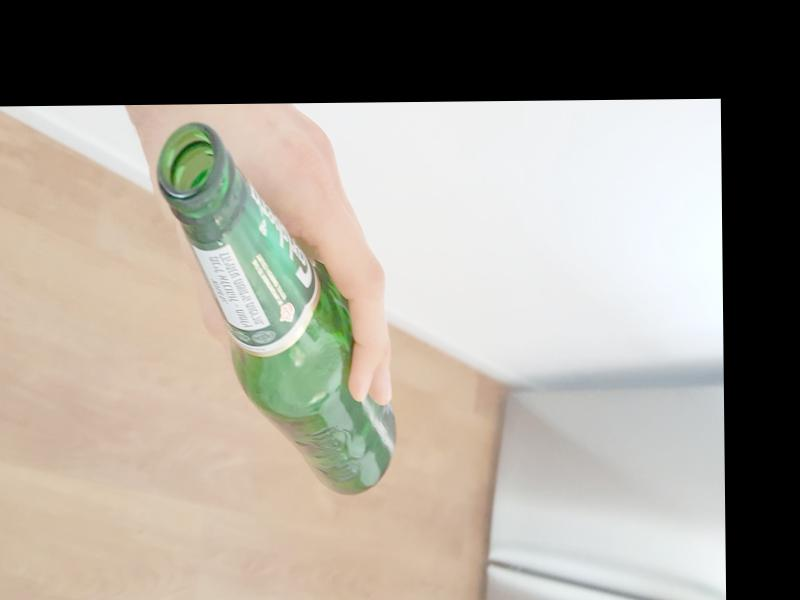Beer: (154, 118, 395, 497)
